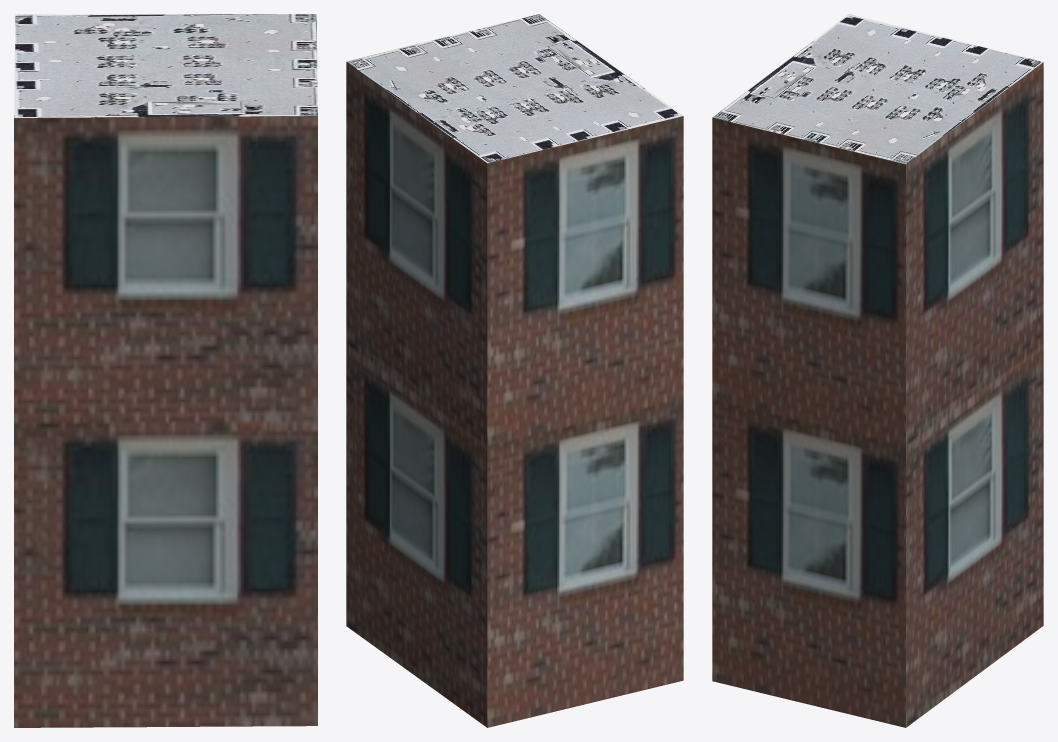
File: ResTex__3899.fbx
3 renders of one model, left to right at view 1: azimuth 30°, elevation 25°; view 2: azimuth 150°, elevation 25°; view 3: azimuth 270°, elevation 25°, orthographic. The views are drawn at different scales.
Visible parts, largest first — view 1: CityEngineMaterial_14_m, CityEngineMaterial_4_m; view 2: CityEngineMaterial_14_m, CityEngineMaterial_4_m; view 3: CityEngineMaterial_14_m, CityEngineMaterial_4_m.
Boxes of the visible parts, x1,y1,x2,y2 form: CityEngineMaterial_14_m: (14,116,317,727); CityEngineMaterial_4_m: (14,14,317,117); CityEngineMaterial_14_m: (346,62,683,727); CityEngineMaterial_4_m: (346,14,682,163); CityEngineMaterial_14_m: (712,62,1043,727); CityEngineMaterial_4_m: (712,14,1043,164).
Size of the model in its own units: 3.43 by 6 by 3.2.
Materials: 2 (2 with a texture image).
